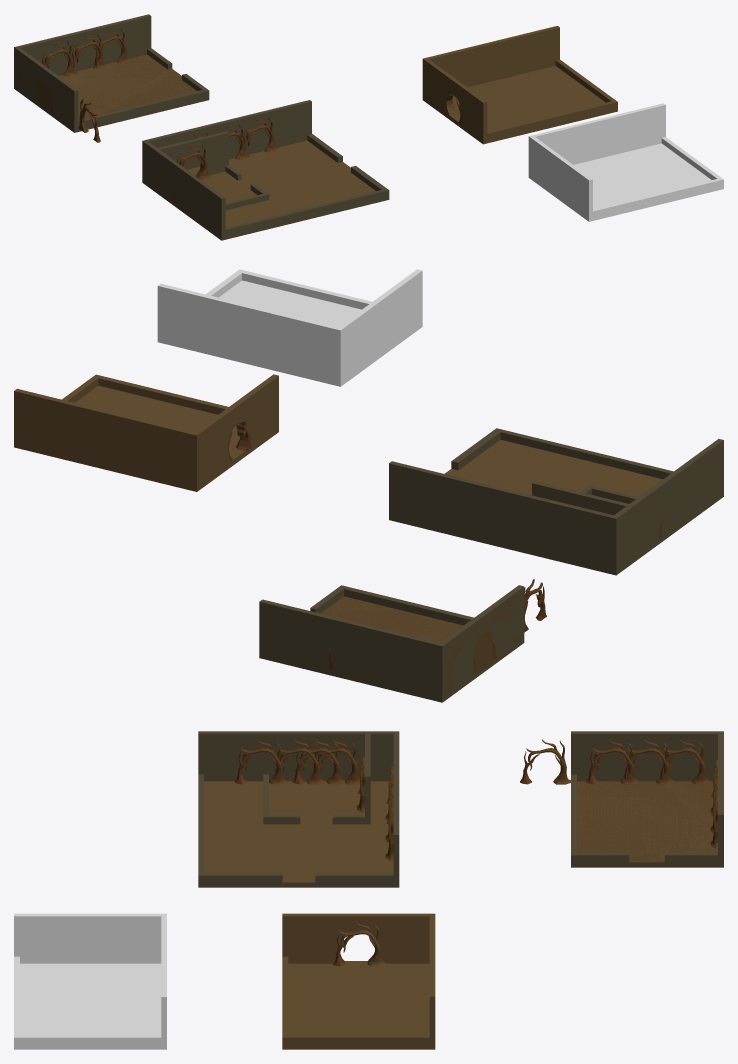
File: salaMedianaDosPuertasNaturaleza.fbx
3 renders of one model, top to bottom at view 1: azimuth 30°, elevation 25°; view 2: azimuth 150°, elevation 25°; view 3: azimuth 270°, elevation 25°, orthographic. The views are drawn at different scales.
Parts seen in each view (by area): view 1: Cubo.003, Cubo.002, Cubo.007, Cubo.019, Cubo.032, Cubo.023, Cubo.013, Cubo.035, Cubo.010, Cubo.018, Cubo.033, Cubo.034 (+4 smaller); view 2: Cubo.003, Cubo.002, Cubo.019, Cubo.007, Cubo.027, Cubo.033, Cubo.023, Cubo.010, Cubo.032, Cubo.016, Cubo.035, Cubo.034 (+1 smaller); view 3: Cubo.003, Cubo.002, Cubo.007, Cubo.033, Cubo.032, Cubo.019, Cubo.013, Cubo.027, Cubo.034, Cubo.038, Cubo.016, Cubo.035 (+11 smaller).
Boxes of the visible parts, x1,y1,x2,y2 form: Cubo.003: [528, 103, 723, 221]; Cubo.002: [422, 26, 617, 144]; Cubo.007: [14, 14, 209, 132]; Cubo.019: [142, 100, 389, 240]; Cubo.032: [187, 141, 374, 227]; Cubo.023: [142, 100, 311, 237]; Cubo.013: [59, 55, 195, 118]; Cubo.035: [154, 131, 269, 213]; Cubo.010: [21, 16, 207, 124]; Cubo.018: [61, 55, 194, 118]; Cubo.033: [188, 140, 375, 226]; Cubo.034: [226, 143, 373, 226]; Cubo.003: [157, 269, 422, 386]; Cubo.002: [14, 374, 278, 491]; Cubo.019: [389, 428, 723, 575]; Cubo.007: [259, 585, 524, 702]; Cubo.027: [389, 440, 723, 572]; Cubo.033: [449, 440, 661, 495]; Cubo.023: [389, 441, 723, 572]; Cubo.010: [259, 585, 472, 700]; Cubo.032: [444, 440, 662, 490]; Cubo.016: [313, 585, 521, 699]; Cubo.035: [532, 464, 688, 523]; Cubo.034: [445, 441, 647, 496]; Cubo.003: [14, 913, 166, 1049]; Cubo.002: [282, 913, 435, 1049]; Cubo.007: [571, 731, 723, 867]; Cubo.033: [204, 781, 388, 882]; Cubo.032: [204, 781, 393, 882]; Cubo.019: [198, 731, 399, 887]; Cubo.013: [577, 781, 717, 861]; Cubo.027: [198, 733, 393, 781]; Cubo.034: [204, 781, 392, 882]; Cubo.038: [269, 781, 364, 824]; Cubo.016: [571, 734, 717, 855]; Cubo.035: [263, 731, 370, 824].
Bounding box in the file's own units: 6562 × 610 × 7412.
